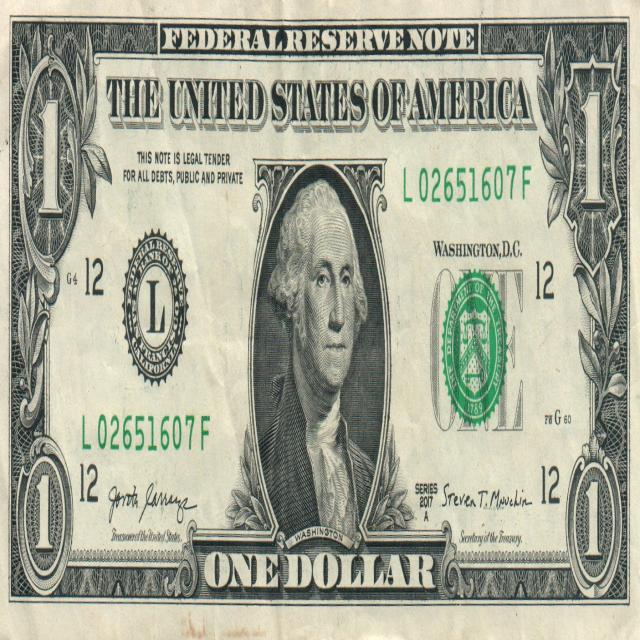SerialNumber: (404, 165, 531, 203), (97, 415, 210, 451)
